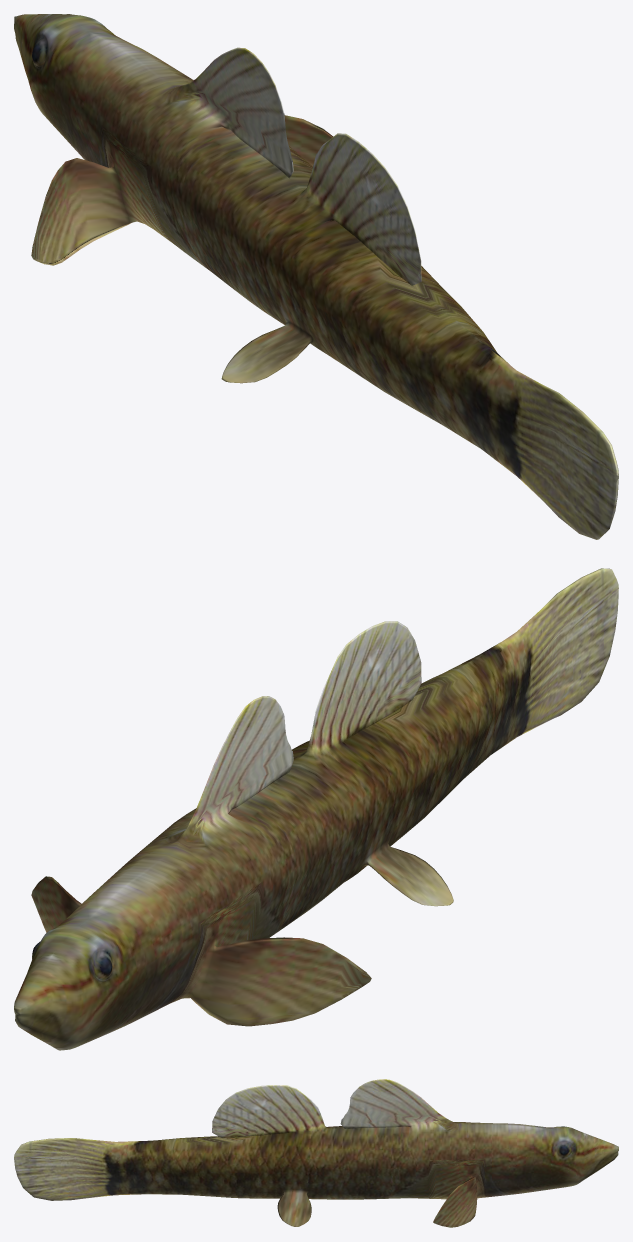
File: yoshinobori_model.fbx
3 views of the same model, one above another, from view 1: azimuth 30°, elevation 25°; view 2: azimuth 150°, elevation 25°; view 3: azimuth 270°, elevation 25° (orthographic). The views are drawn at different scales.
Parts seen in each view (by area): view 1: pCube1; view 2: pCube1; view 3: pCube1.
Part boxes in pixels (<box>): pCube1: <box>14,14,618,539</box>; pCube1: <box>14,568,618,1050</box>; pCube1: <box>14,1079,618,1227</box>.
Size of the model in its own units: 6.02 by 4.07 by 18.39.
